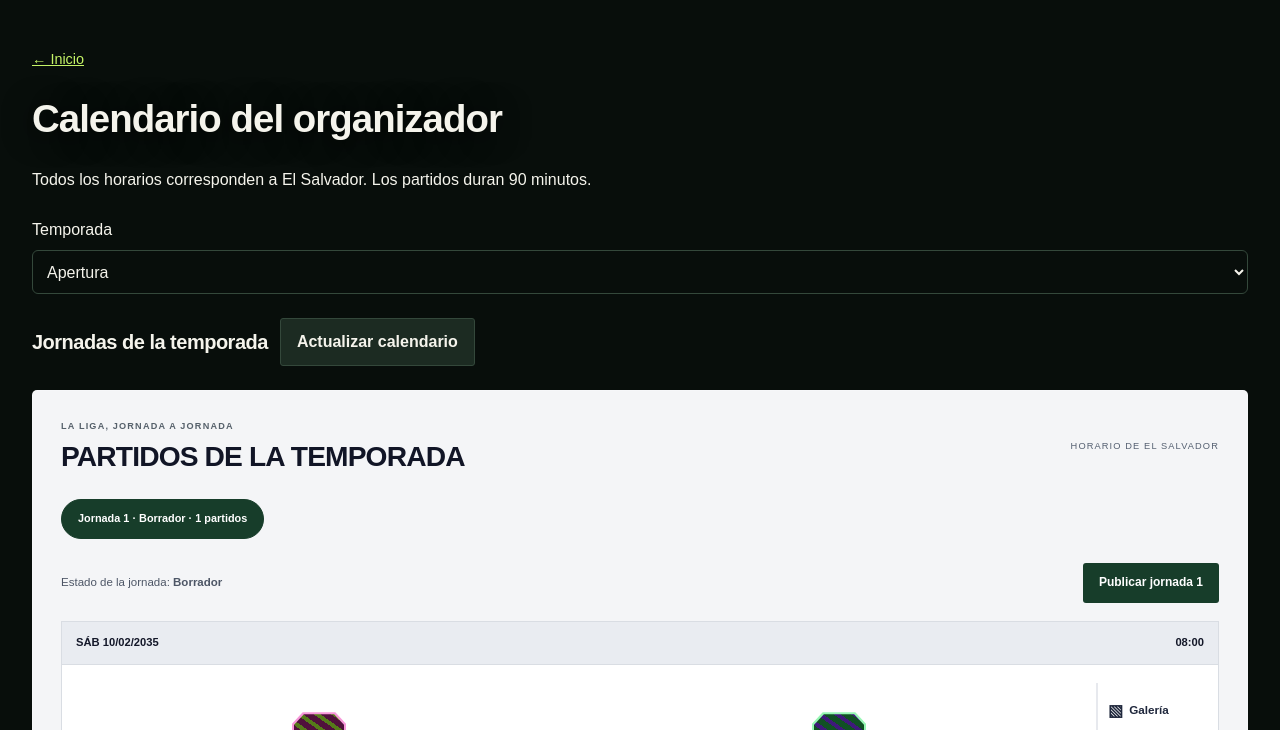
Test: FE-3.1 calendario › publica usando el id real y retira el botón después de consultar
Click the button "Publicar jornada 1": x=1151, y=583 x1=1083 y1=563 x2=1219 y2=603
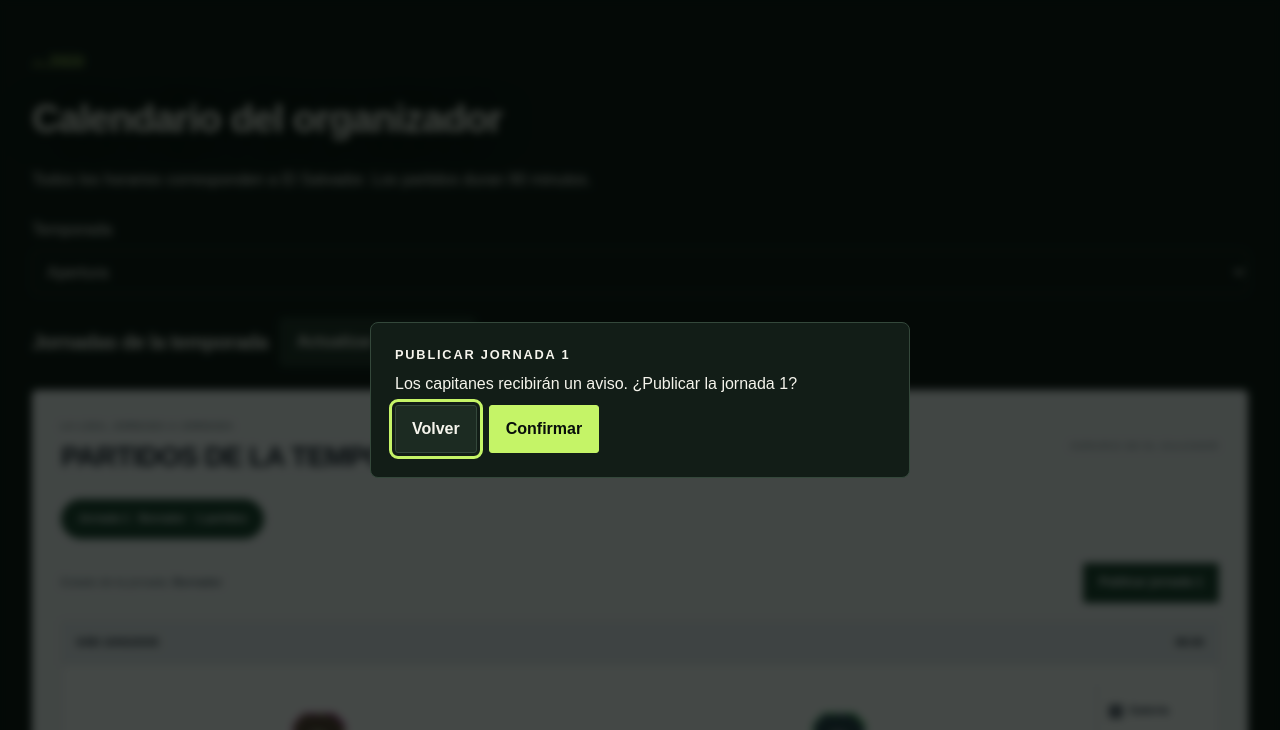
Now the text "Los capitanes recibirán un aviso. ¿Publicar la jornada 1?" is shown, box x1=395 y1=375 x2=797 y2=392
Click the button "Confirmar": x=544, y=429 x1=489 y1=405 x2=599 y2=453
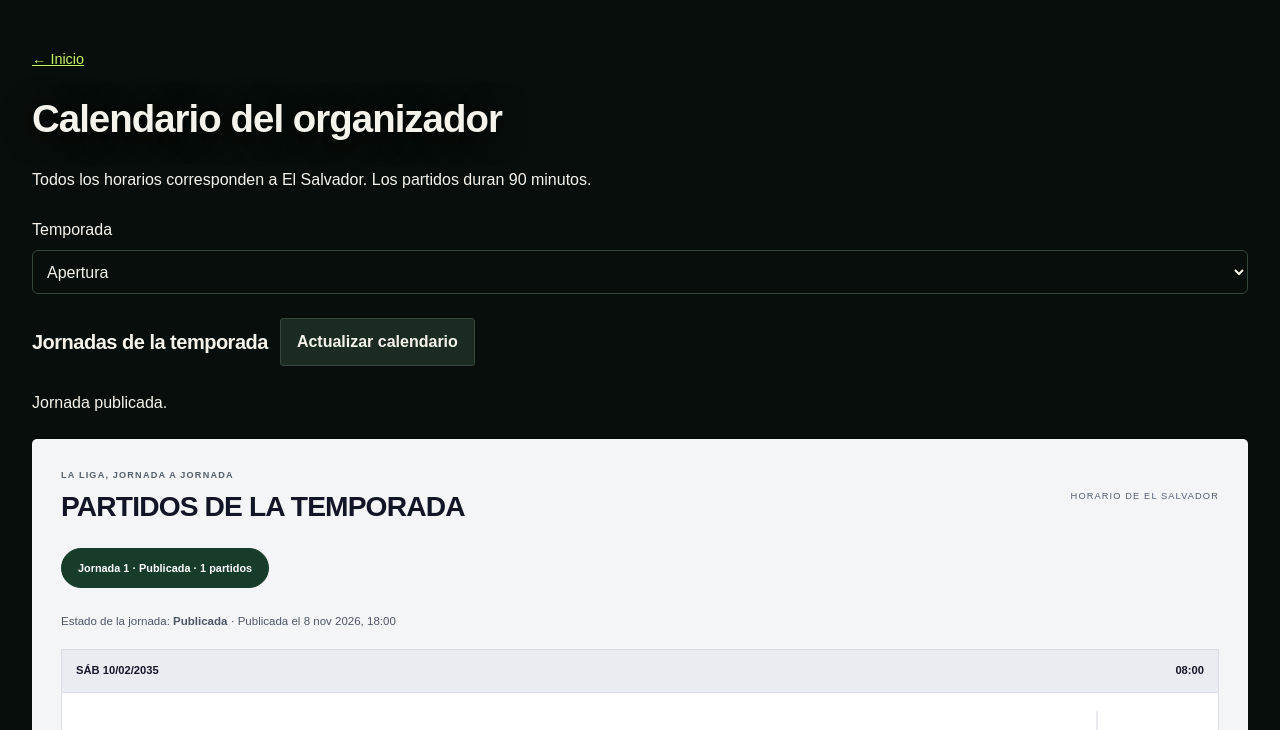
Now the text "Jornada publicada." is shown, box x1=32 y1=394 x2=167 y2=411
Now the button "Jornada 1 · Publicada · 1 partidos" is shown, box x1=61 y1=548 x2=269 y2=588
Now the button "Publicar jornada 1" is gone
